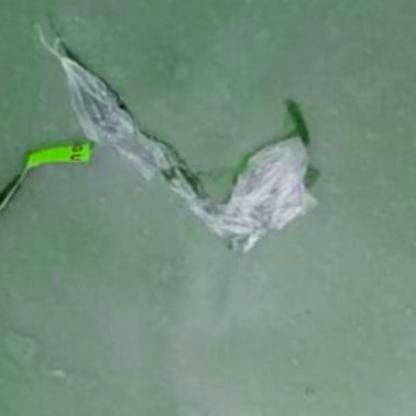Trash: (23, 26, 318, 257), (1, 136, 106, 227)
